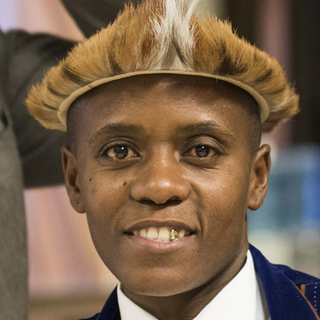eye: (181, 138, 226, 164), (98, 138, 143, 164)
